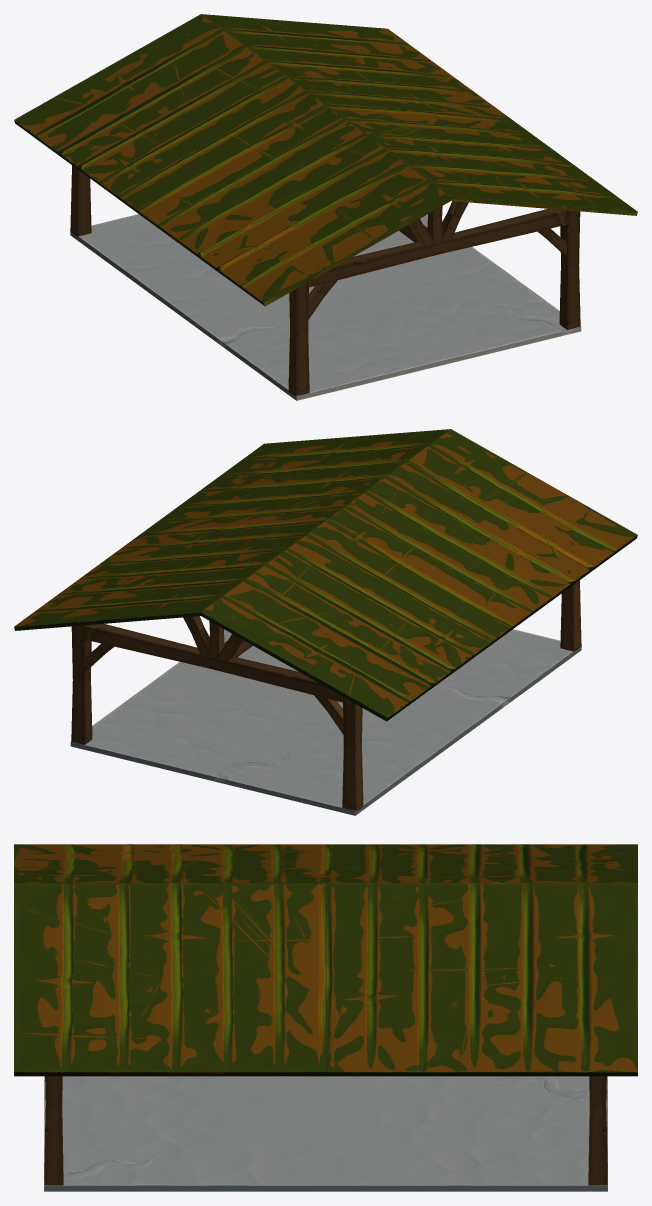
File: Food_Storage_Textered_TEST.fbx
3 renders of one model, top to bottom at view 1: azimuth 30°, elevation 25°; view 2: azimuth 150°, elevation 25°; view 3: azimuth 270°, elevation 25°, orthographic. The views are drawn at different scales.
Visible parts, largest first — view 1: Food_Storage roof_LOW, Food_Storage_Floor_LOW, Food storage beams; view 2: Food_Storage roof_LOW, Food_Storage_Floor_LOW, Food storage beams; view 3: Food_Storage roof_LOW, Food_Storage_Floor_LOW, Food storage beams.
Part boxes in pixels (x1=…): Food_Storage roof_LOW: x1=14, y1=14, x2=637, y2=306; Food_Storage_Floor_LOW: x1=70, y1=214, x2=581, y2=400; Food storage beams: x1=70, y1=165, x2=580, y2=396; Food_Storage roof_LOW: x1=14, y1=429, x2=637, y2=721; Food_Storage_Floor_LOW: x1=70, y1=629, x2=581, y2=815; Food storage beams: x1=71, y1=580, x2=581, y2=811; Food_Storage roof_LOW: x1=14, y1=844, x2=637, y2=1076; Food_Storage_Floor_LOW: x1=44, y1=1076, x2=607, y2=1191; Food storage beams: x1=44, y1=1076, x2=607, y2=1185.
Bounding box in the file's own units: 1050 × 477 × 1217.
3 materials, 3 textured.
